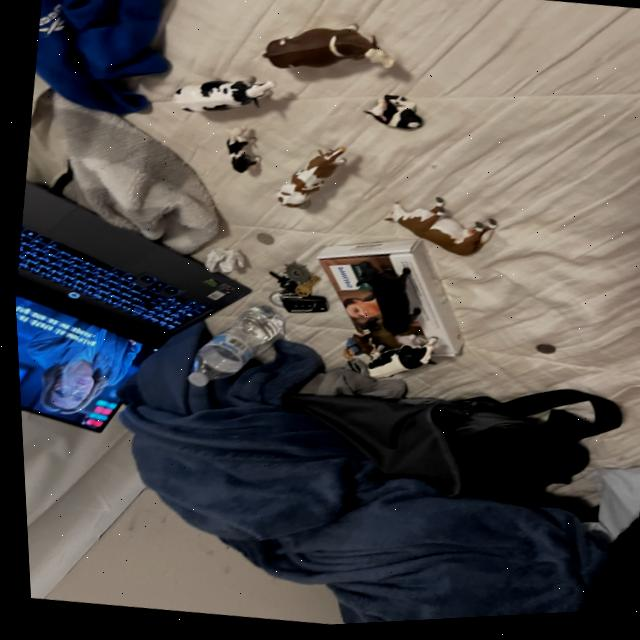cow: (380, 186, 496, 270), (270, 140, 352, 219), (355, 255, 422, 344), (263, 29, 392, 73), (161, 76, 275, 119), (361, 88, 429, 145), (359, 340, 433, 386), (222, 130, 261, 178), (343, 330, 382, 368)
person: (332, 340, 359, 368)
